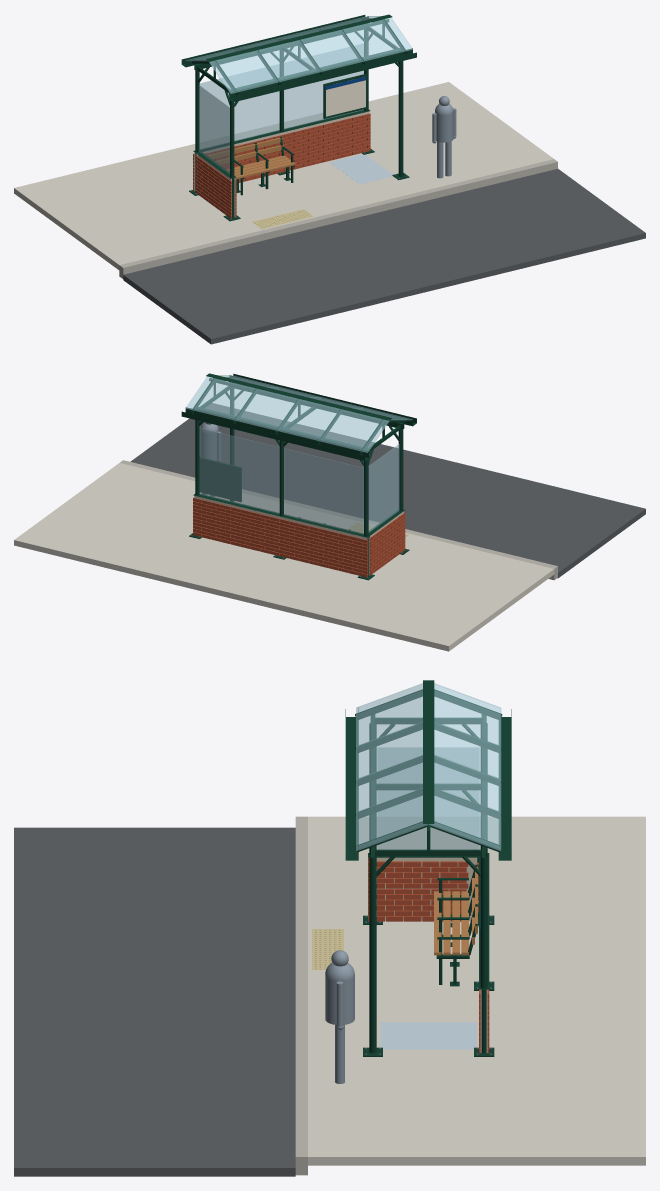
Rendered from mercado.glb.
3 views of the same model, one above another, from view 1: azimuth 30°, elevation 25°; view 2: azimuth 150°, elevation 25°; view 3: azimuth 270°, elevation 25° (orthographic). The views are drawn at different scales.
Parts seen in each view (by area): view 1: A0-faixa-01, A0-passeio-01, A0-lancil-01, A3.1-vidro-costas-01, A3.4-tijolo-aparente-02, A3.1-vidro-costas-02, A3.1-vidro-lateral-01, A2.1-vidro-cobertura-01, A2.1-vidro-cobertura-07, A2.1-vidro-cobertura-05, A2.1-vidro-cobertura-03, A0-figura-01 (+17 smaller); view 2: A0-passeio-01, A0-faixa-01, A3.4-tijolo-aparente-01, A3.1-vidro-costas-02, A3.1-vidro-costas-01, A3.1-vidro-lateral-01, A2.1-vidro-cobertura-02, A2.1-vidro-cobertura-08, A2.1-vidro-cobertura-06, A2.1-vidro-cobertura-04, A0-lancil-01, A4.3-painel-informacao-01 (+13 smaller); view 3: A0-faixa-01, A0-passeio-01, A3.1-vidro-lateral-01, A0-lancil-01, A3.4-tijolo-aparente-04, A2.1-vidro-cobertura-08, A0-zona-cadeira-rodas-01, A2.1-vidro-cobertura-07, A2.1-vidro-cobertura-02, A2.1-vidro-cobertura-01, A0-figura-01, A2.1-vidro-cobertura-04 (+13 smaller).
Part boxes in pixels (x1,y1,x2,y2): A0-faixa-01: (123,168,645,344); A0-passeio-01: (14,82,553,269); A0-lancil-01: (119,159,557,278); A3.1-vidro-costas-01: (199,64,279,149); A3.4-tijolo-aparente-02: (196,113,370,192); A3.1-vidro-costas-02: (284,44,363,129); A3.1-vidro-lateral-01: (199,85,229,173); A2.1-vidro-cobertura-01: (209,50,278,93); A2.1-vidro-cobertura-07: (342,17,412,61); A2.1-vidro-cobertura-05: (300,30,363,71); A2.1-vidro-cobertura-03: (258,40,321,81); A0-figura-01: (432,96,456,178); A0-passeio-01: (14,463,554,651); A0-faixa-01: (130,403,645,578); A3.4-tijolo-aparente-01: (193,497,367,577); A3.1-vidro-costas-02: (199,428,279,513); A3.1-vidro-costas-01: (284,448,363,534); A3.1-vidro-lateral-01: (368,444,399,532); A2.1-vidro-cobertura-02: (319,409,389,452); A2.1-vidro-cobertura-08: (185,376,255,420); A2.1-vidro-cobertura-06: (235,388,297,430); A2.1-vidro-cobertura-04: (277,399,340,440); A0-lancil-01: (120,460,557,580); A4.3-painel-informacao-01: (200,457,241,501); A0-faixa-01: (14,827,295,1176); A0-passeio-01: (308,816,645,1165); A3.1-vidro-lateral-01: (377,747,479,849); A0-lancil-01: (295,816,307,1175); A3.4-tijolo-aparente-04: (368,861,468,921); A2.1-vidro-cobertura-08: (429,788,501,850); A0-zona-cadeira-rodas-01: (380,1022,476,1049); A2.1-vidro-cobertura-07: (356,787,428,850); A2.1-vidro-cobertura-02: (434,683,501,745); A2.1-vidro-cobertura-01: (356,683,422,745); A0-figura-01: (325,950,354,1083); A2.1-vidro-cobertura-04: (434,722,501,779).
Size of the model in its own units: 10000 by 3858 by 7850.
